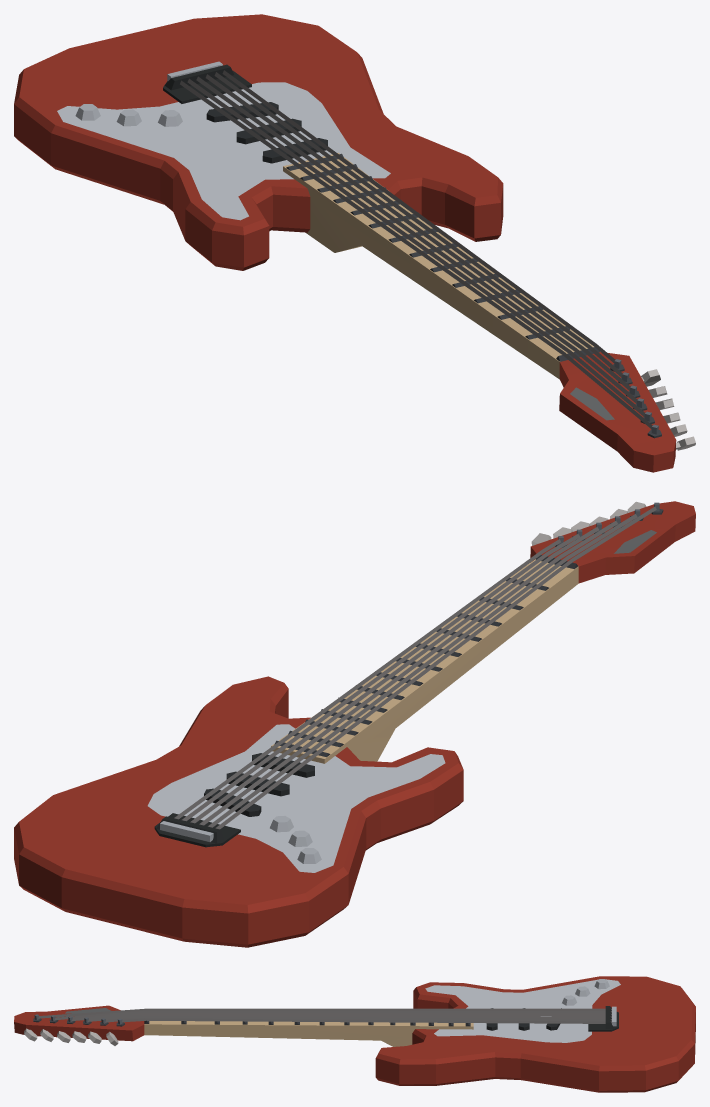
File: SM_Prop_Music_Electric_Guitar_01.obj
The picture shows the model from 3 angles, top to bottom: view 1: azimuth 30°, elevation 25°; view 2: azimuth 150°, elevation 25°; view 3: azimuth 270°, elevation 25°; orthographic projection. The views are drawn at different scales.
Visible parts, largest first — view 1: SM_Prop_Music_Electric_Guitar_01_0; view 2: SM_Prop_Music_Electric_Guitar_01_0; view 3: SM_Prop_Music_Electric_Guitar_01_0.
Boxes of the visible parts, x1,y1,x2,y2 form: SM_Prop_Music_Electric_Guitar_01_0: (14,14,695,472); SM_Prop_Music_Electric_Guitar_01_0: (14,501,695,947); SM_Prop_Music_Electric_Guitar_01_0: (14,976,695,1092).
Bounding box in the file's own units: 0.5385 × 0.0976 × 1.68.
Materials: 1 (1 with a texture image).
